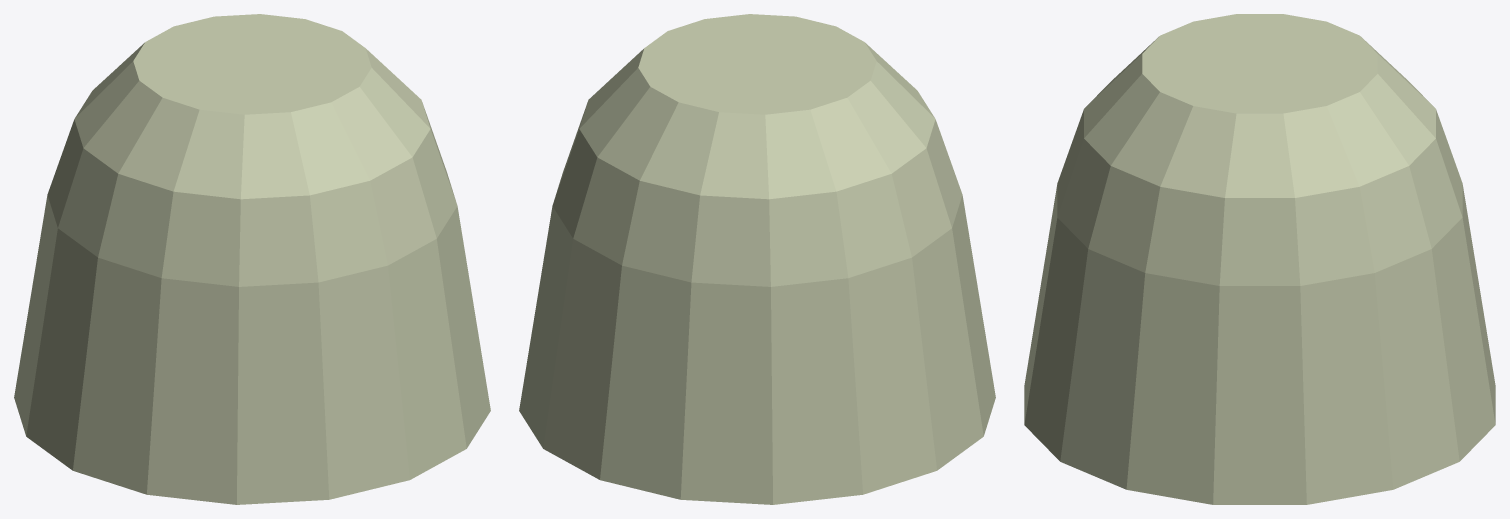
The model's file is tantares_crew_s1_1_collider.obj.
3 views of the same model, side by side, from view 1: azimuth 30°, elevation 25°; view 2: azimuth 150°, elevation 25°; view 3: azimuth 270°, elevation 25° (orthographic).
Visible parts, largest first — view 1: collider; view 2: collider; view 3: collider.
Boxes of the visible parts, <box> form: collider: <box>14,14,490,504</box>; collider: <box>519,14,995,504</box>; collider: <box>1024,14,1495,504</box>.
Size of the model in its own units: 1.25 by 1 by 1.25.
